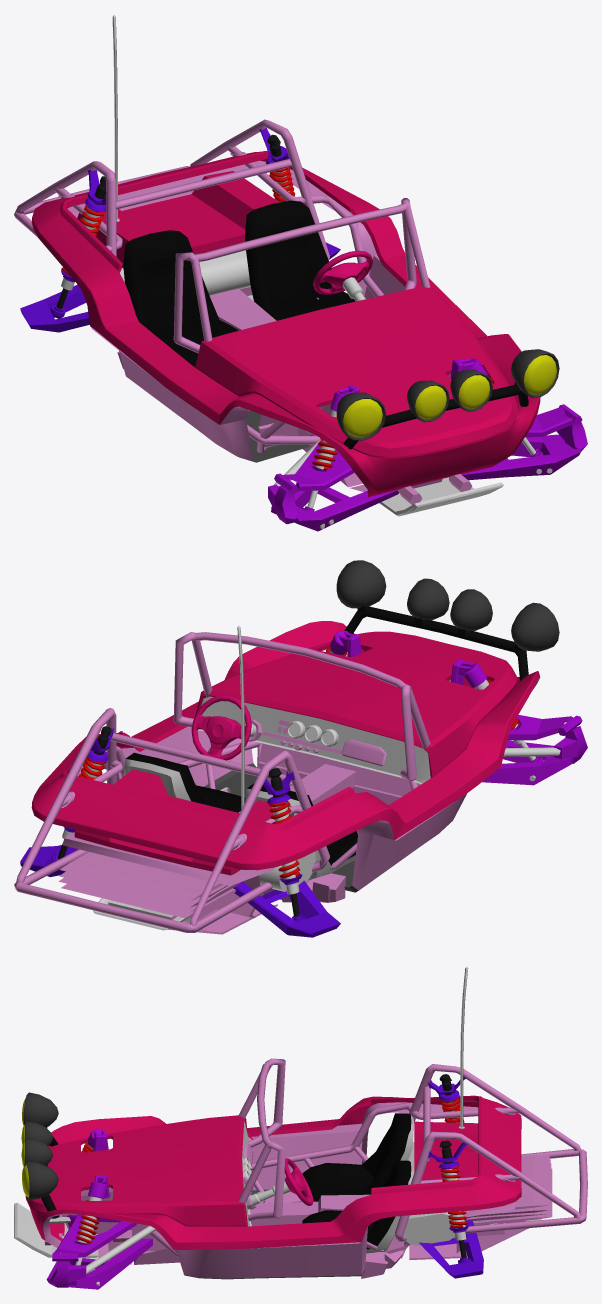
Rendered from car.obj.
The picture shows the model from 3 angles, top to bottom: view 1: azimuth 30°, elevation 25°; view 2: azimuth 150°, elevation 25°; view 3: azimuth 270°, elevation 25°; orthographic projection. The views are drawn at different scales.
Parts seen in each view (by area): view 1: body; view 2: body; view 3: body.
Part boxes in pixels (box(x1,y1,x2,y2)): body: box(14, 15, 587, 531); body: box(14, 560, 587, 937); body: box(14, 967, 587, 1289).
Bounding box in the file's own units: 2 × 2 × 4.
